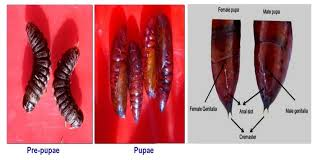larva: (47, 49, 90, 132), (17, 22, 50, 114)
pupa: (251, 12, 298, 113), (207, 19, 247, 126), (141, 11, 178, 116), (107, 23, 131, 124), (123, 36, 148, 132)
